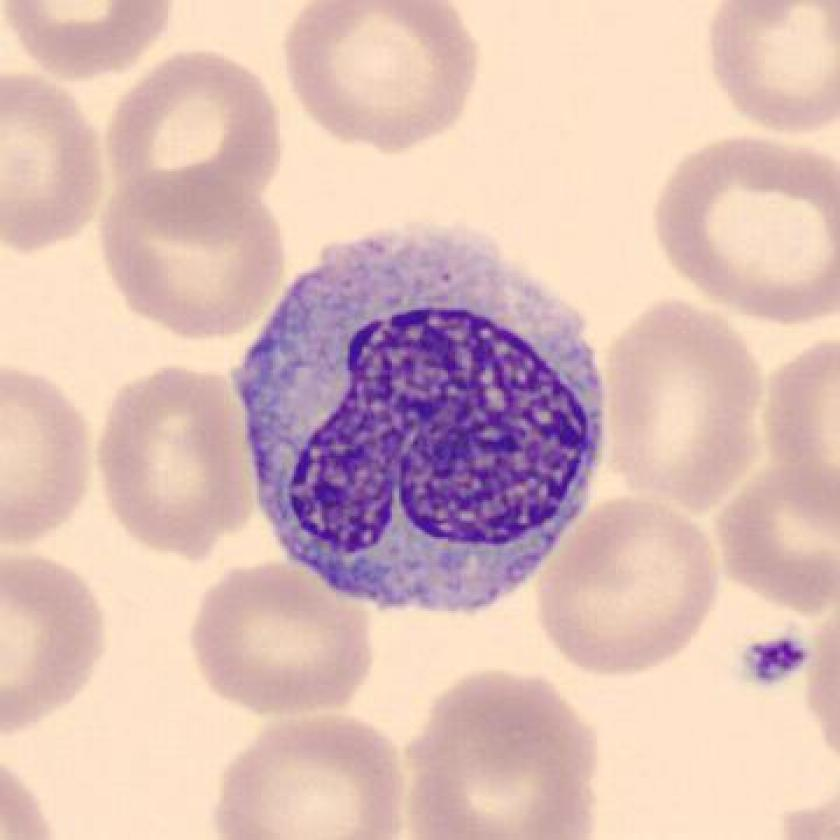monocyte: (218, 207, 626, 635)
